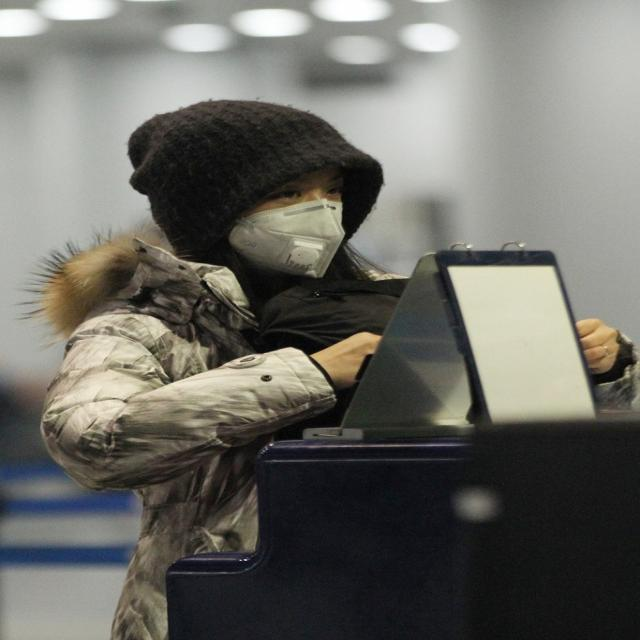mask: (234, 139, 345, 283)
